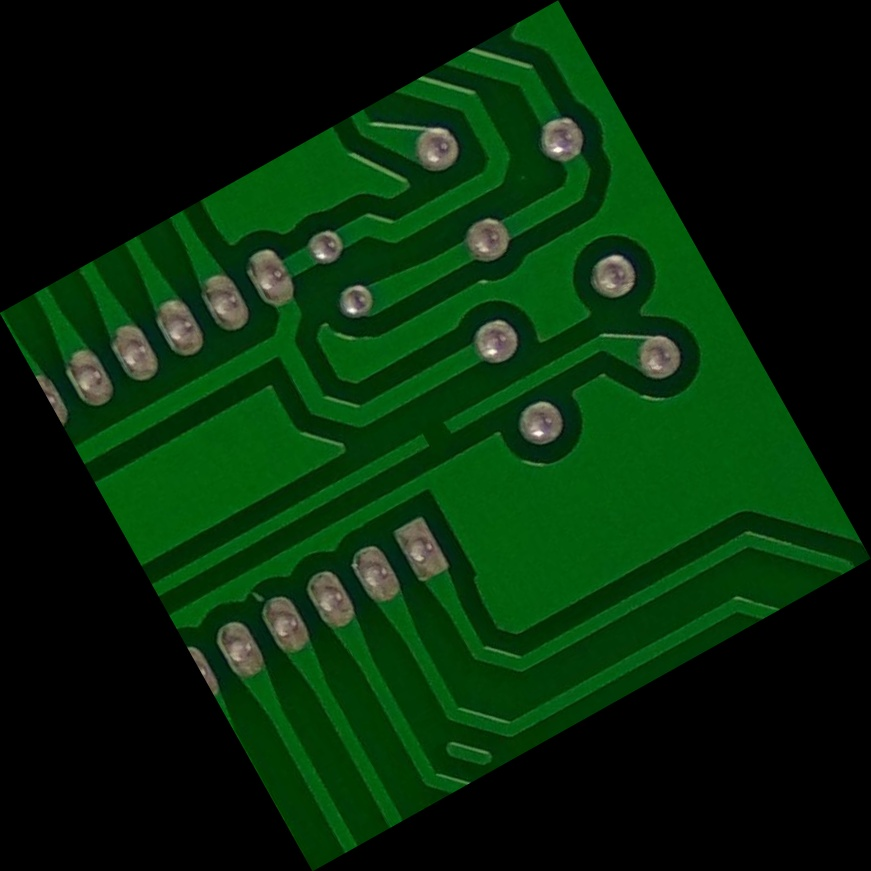open_circuit: (399, 402, 472, 470)
